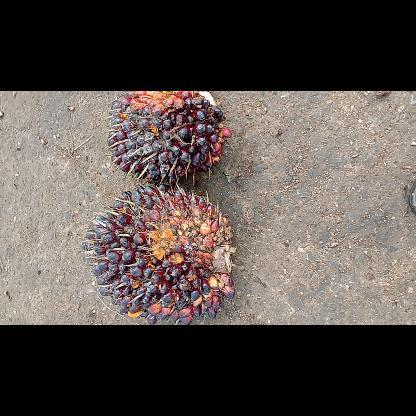Kurang masak: (79, 184, 239, 324), (106, 91, 234, 187)
